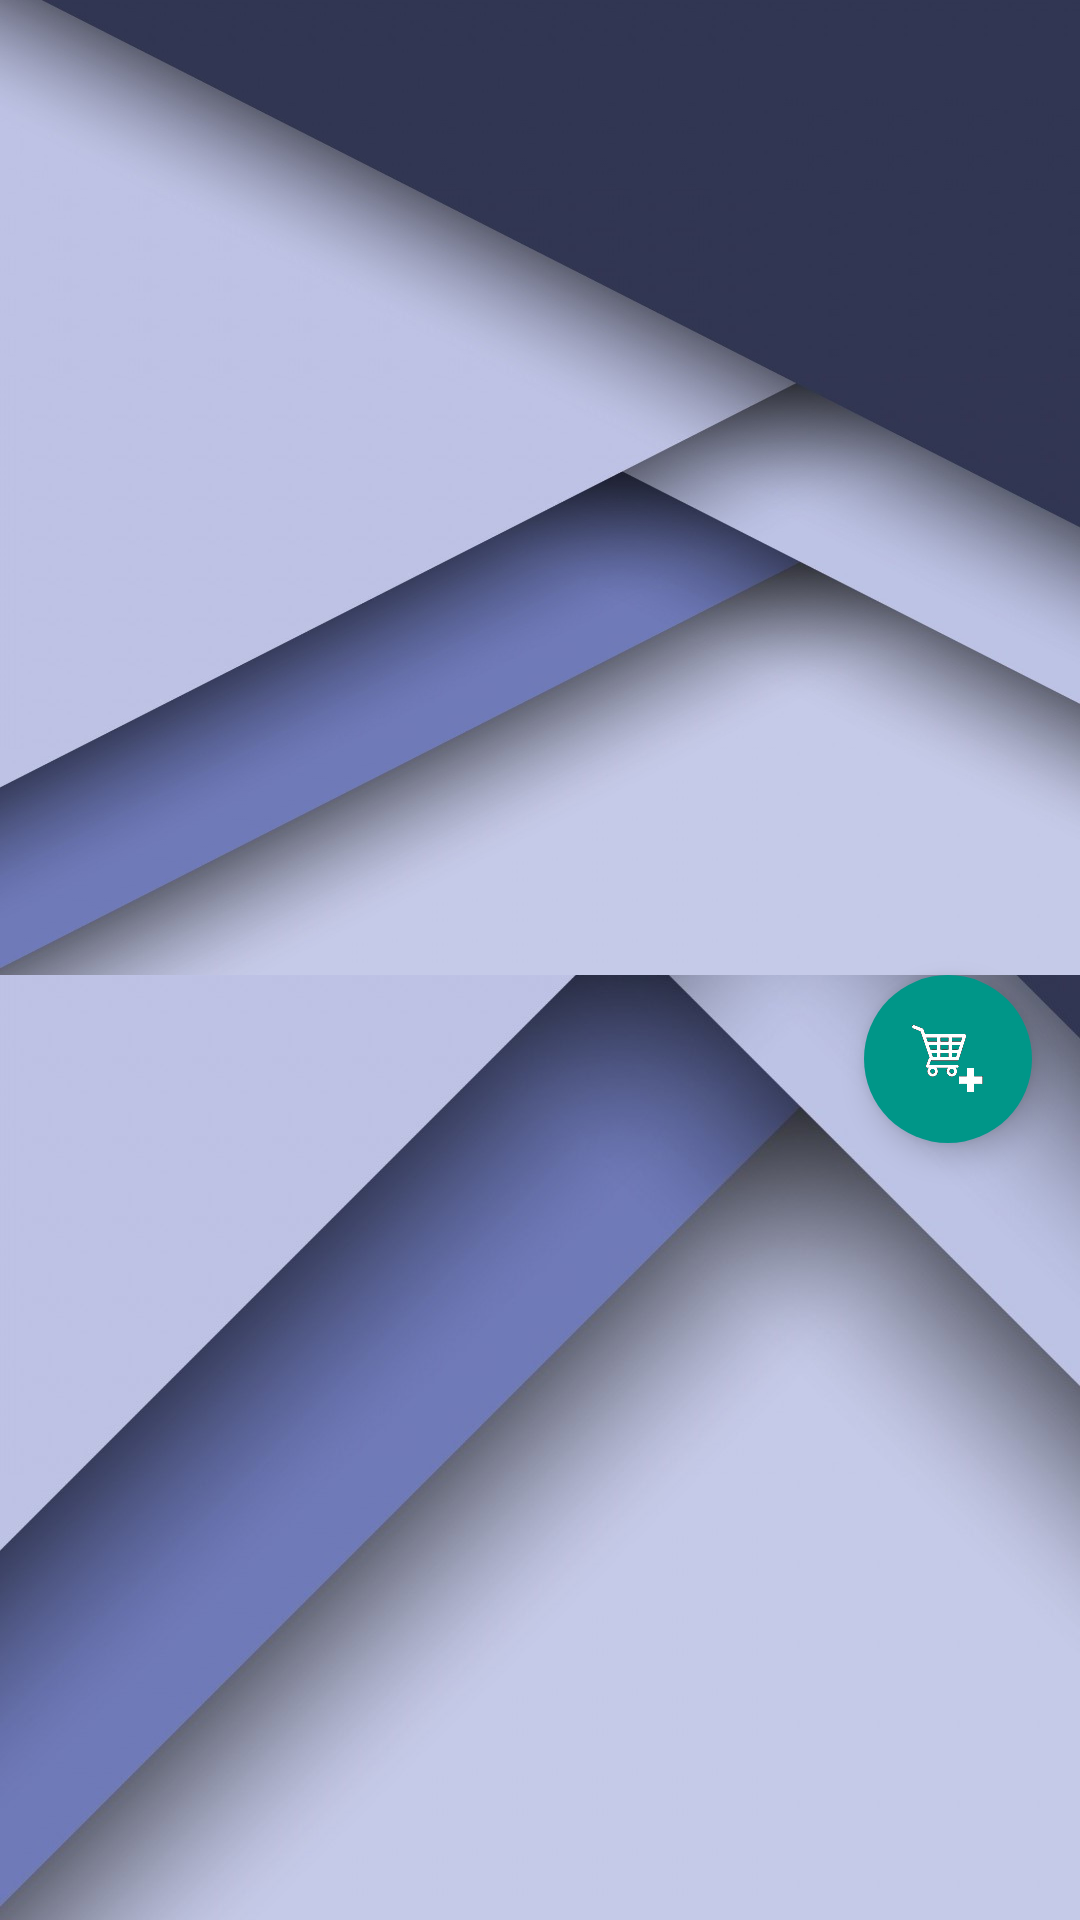

Screen size 1080w x 1920h. Icon name, then its center in pixels as point (x, y):
addcart: point (948, 1059)
